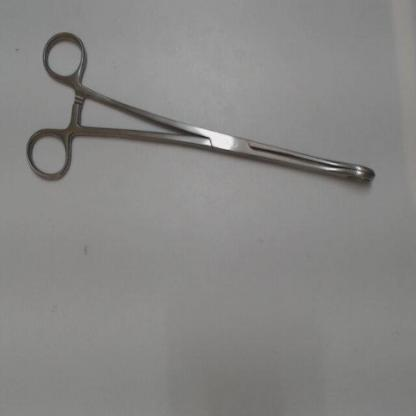Sponge Forceps: (20, 24, 386, 196)
